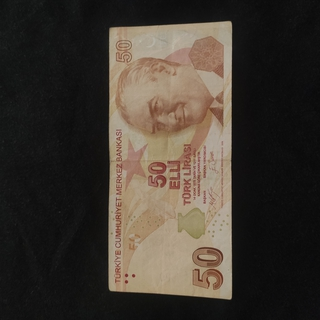50TLFront: (107, 20, 233, 299)
